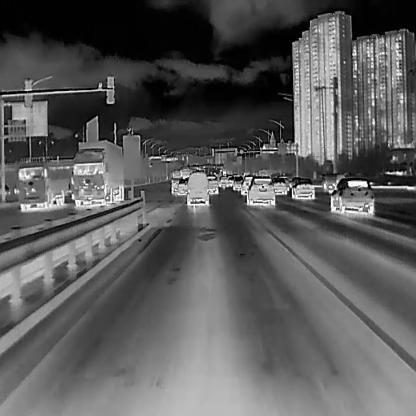car: (71, 140, 123, 206), (18, 163, 66, 207), (330, 177, 373, 215), (185, 172, 209, 206), (248, 176, 274, 207), (291, 175, 315, 199), (272, 174, 286, 195), (241, 176, 257, 194), (206, 175, 218, 194), (177, 175, 186, 195), (172, 178, 181, 194), (233, 173, 241, 189)
